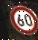Speed Limit -60-: (5, 3, 38, 36)
